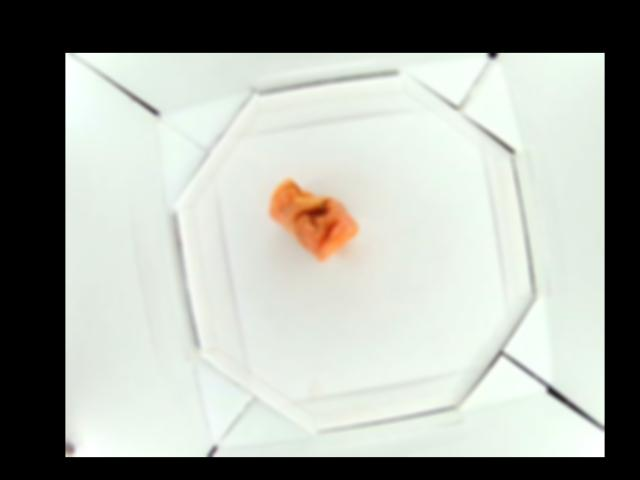Carrot: (268, 179, 356, 262)
